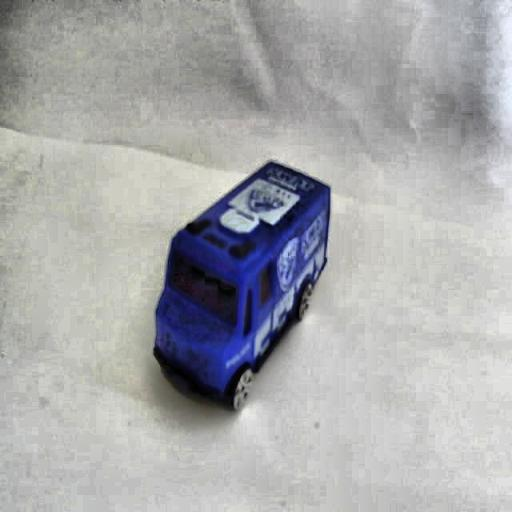police car: (158, 158, 333, 412)
